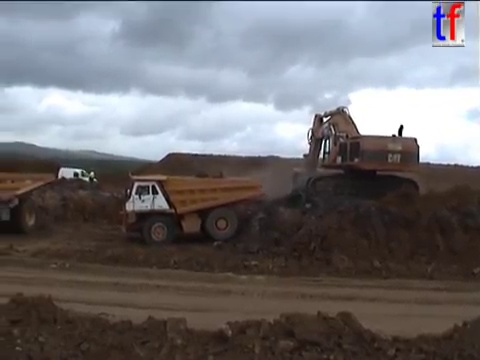excavator: (289, 103, 423, 205)
truck: (118, 169, 265, 247), (1, 169, 57, 235)
worker: (86, 166, 95, 188)
